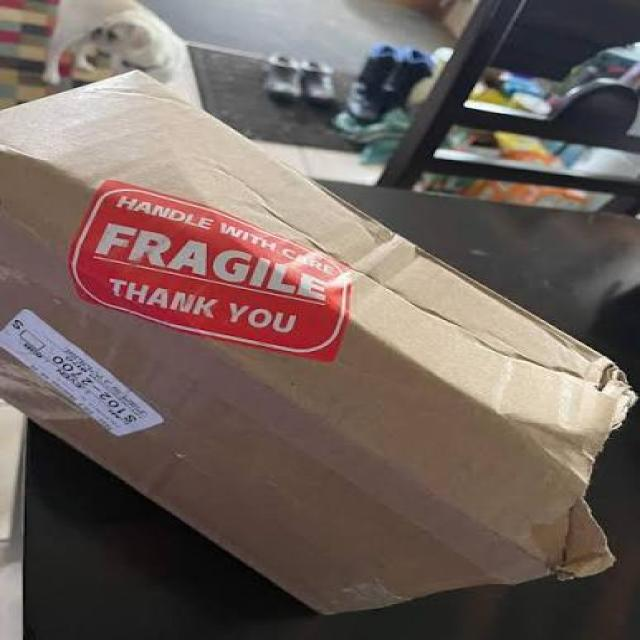carton_box: (0, 65, 640, 638)
export_mark_label: (0, 303, 174, 435)
fragile_label: (65, 164, 372, 358)
package_damage: (529, 318, 640, 587)
